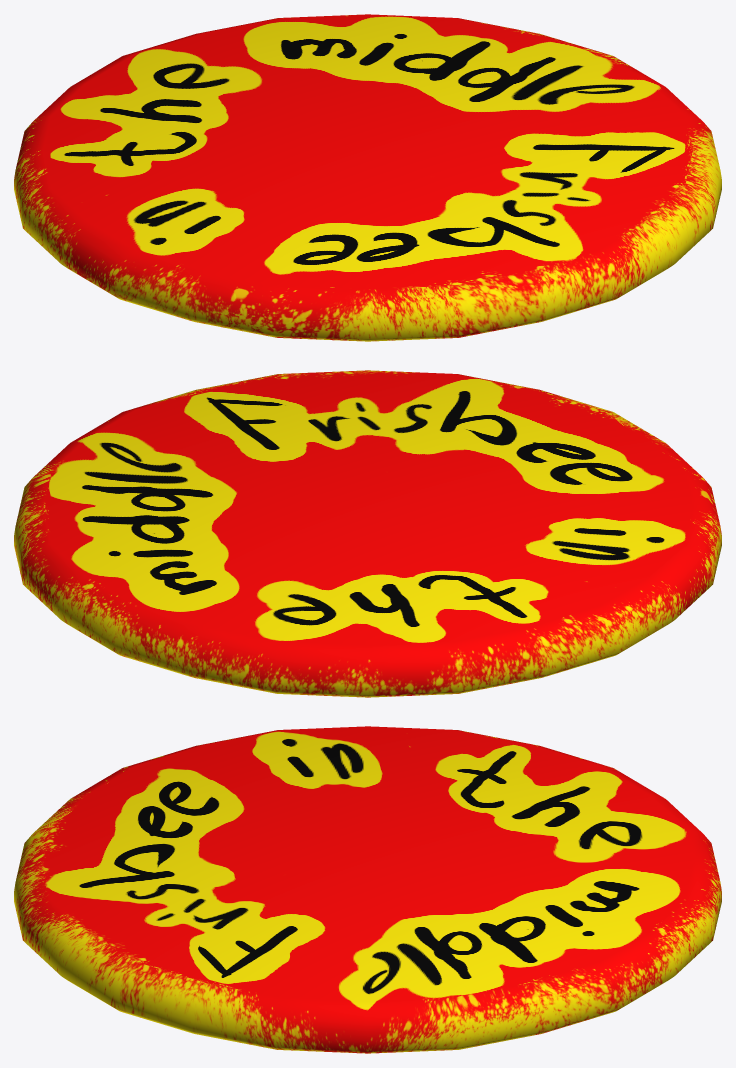
File: frisbee.glb
The picture shows the model from 3 angles, top to bottom: view 1: azimuth 30°, elevation 25°; view 2: azimuth 150°, elevation 25°; view 3: azimuth 270°, elevation 25°; orthographic projection.
Visible parts, largest first — view 1: Cube; view 2: Cube; view 3: Cube.
Part boxes in pixels (x1,y1,x2,y2): Cube: (14,14,721,341); Cube: (14,370,721,697); Cube: (14,726,721,1053).
Bounding box in the file's own units: 2.18 × 0.1453 × 2.18.
Materials: 1 (1 with a texture image).
